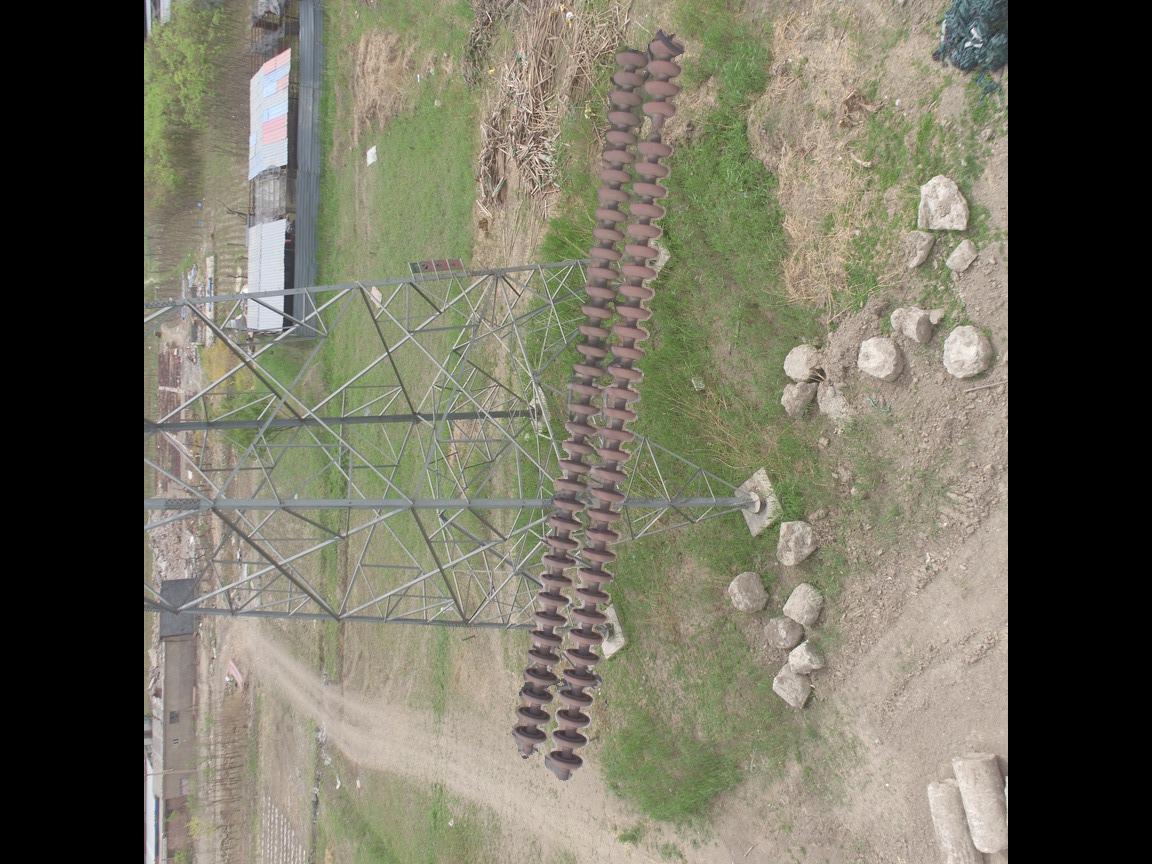insulator: (510, 29, 689, 782)
insulator_stringdrop: (631, 97, 676, 162)
